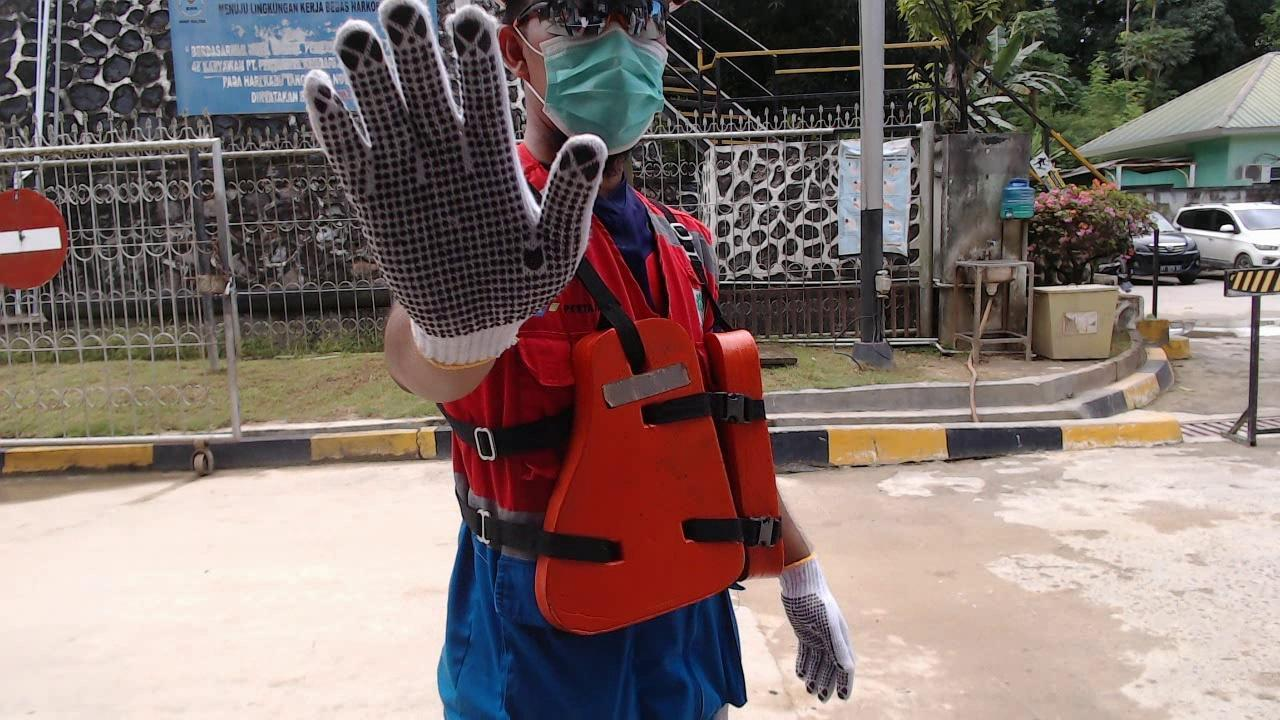vest: (531, 313, 797, 640)
